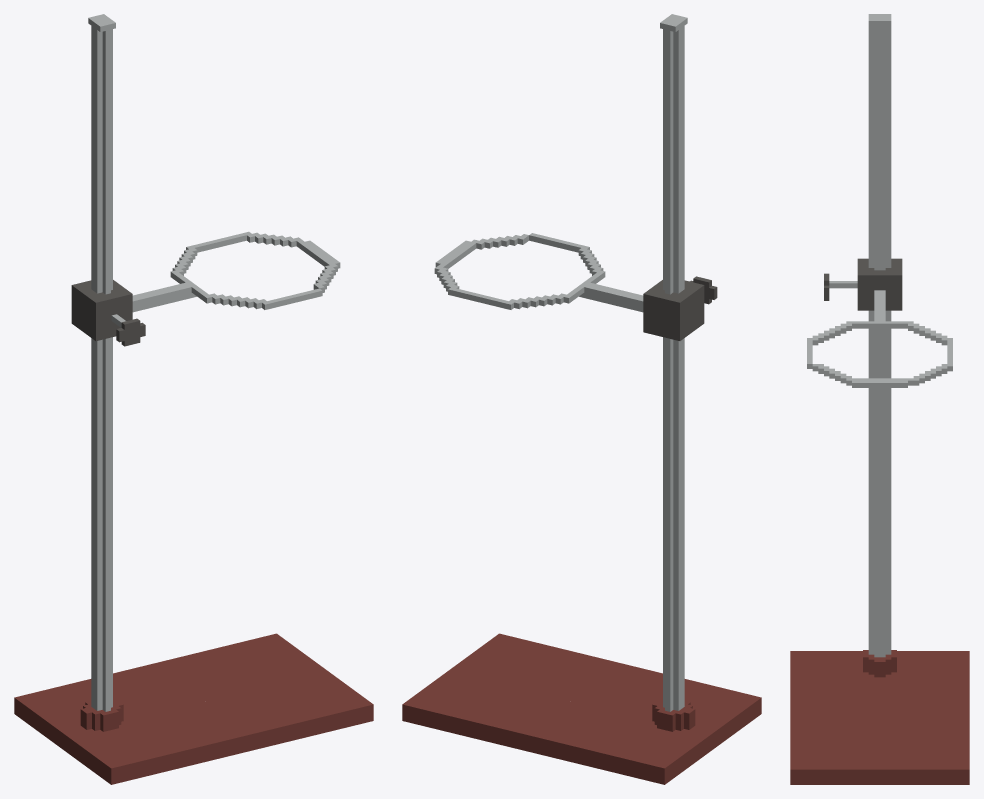
File: stand_ring.glb
The picture shows the model from 3 angles, left to right: view 1: azimuth 30°, elevation 25°; view 2: azimuth 150°, elevation 25°; view 3: azimuth 270°, elevation 25°; orthographic projection. The views are drawn at different scales.
Parts seen in each view (by area): view 1: stand_ring:compound; view 2: stand_ring:compound; view 3: stand_ring:compound.
Part boxes in pixels (x1=…): stand_ring:compound: x1=14, y1=14, x2=373, y2=784; stand_ring:compound: x1=402, y1=14, x2=761, y2=784; stand_ring:compound: x1=790, y1=14, x2=969, y2=784.
Bounding box in the file's own units: 0.2 × 0.524 × 0.128.
